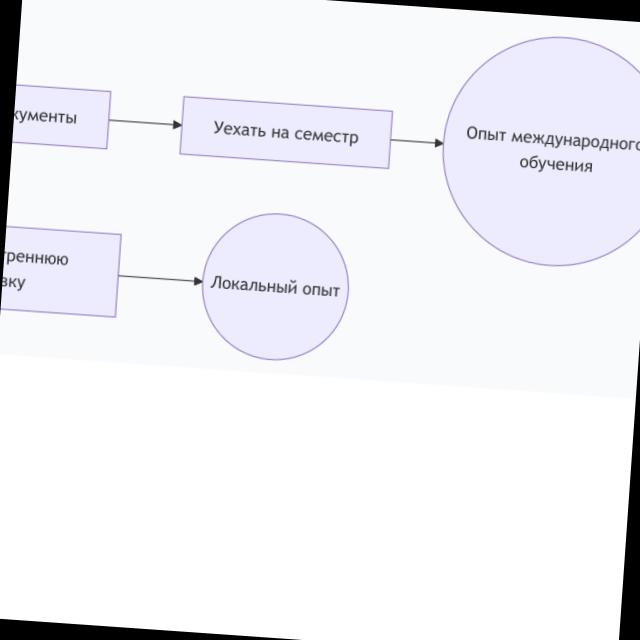arrow: (118, 268, 202, 288), (108, 112, 182, 132), (391, 132, 444, 152)
circle: (196, 208, 354, 366)
rectangle: (178, 94, 393, 169)
